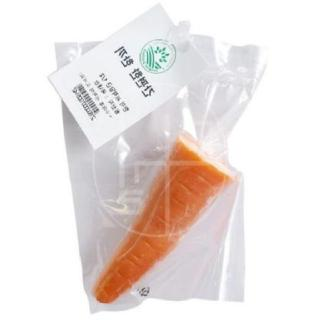carrot: (91, 132, 237, 304)
